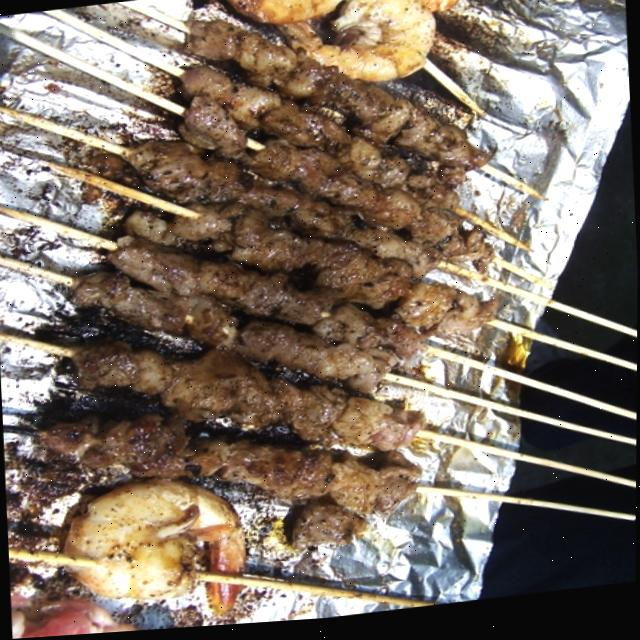烧串烤肉: (27, 0, 619, 621)
